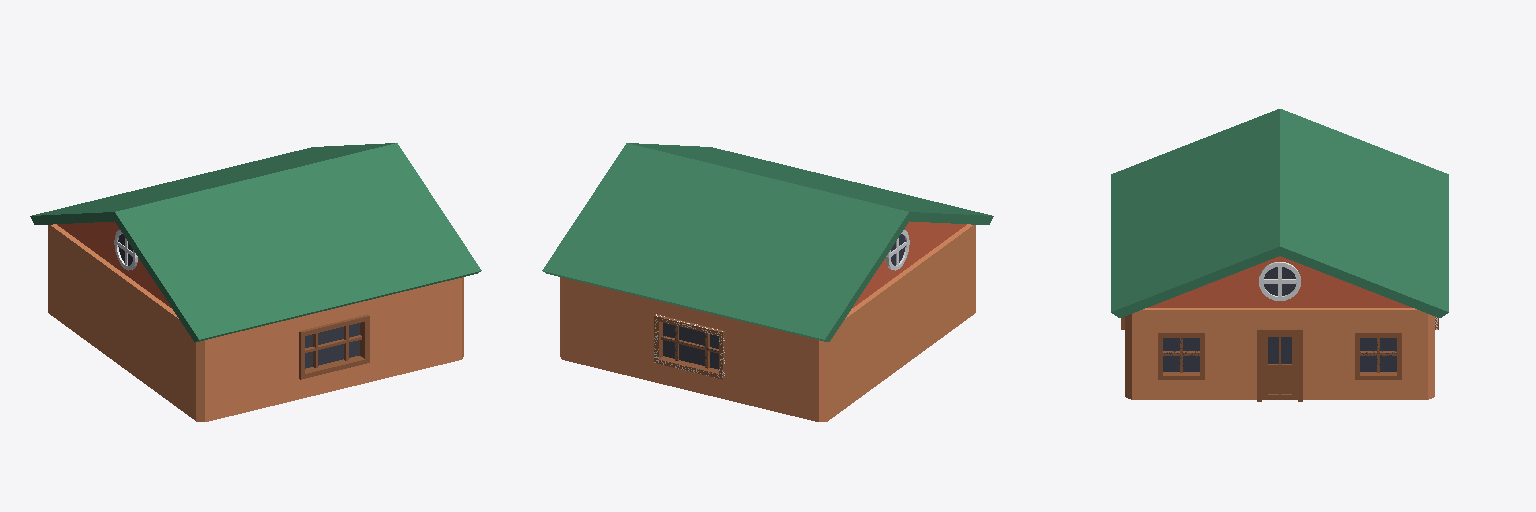
The picture shows the model from 3 angles: view 1: azimuth 30°, elevation 25°; view 2: azimuth 150°, elevation 25°; view 3: azimuth 270°, elevation 25°; orthographic projection.
Parts seen in each view (by area): view 1: roof_18, wall_straight_9, wall_windowLarge_10, wall_straight_8, wall_straight_15, wall_straight_14, wall_straight_16, window_round_detail_20; view 2: roof_18, wall_straight_13, wall_windowLarge_12, wall_straight_11, wall_straight_15, wall_straight_16, wall_straight_14, window_round_detail_20; view 3: roof_18, wall_window_4, wall_window_5, wall_door_closed_0, window_round_detail_19.
Part boxes in pixels (x1,y1,x2,y2): roof_18: (30, 143, 481, 341); wall_straight_9: (196, 320, 289, 421); wall_windowLarge_10: (290, 299, 375, 401); wall_straight_8: (376, 278, 461, 380); wall_straight_15: (97, 256, 154, 384); wall_straight_14: (48, 224, 98, 347); wall_straight_16: (147, 296, 195, 420); window_round_detail_20: (114, 230, 137, 270); roof_18: (542, 143, 993, 341); wall_straight_13: (734, 320, 827, 421); wall_windowLarge_12: (648, 299, 733, 401); wall_straight_11: (562, 278, 647, 380); wall_straight_15: (869, 256, 926, 384); wall_straight_16: (925, 224, 975, 347); wall_straight_14: (828, 294, 876, 420); window_round_detail_20: (886, 230, 909, 270); roof_18: (1111, 109, 1448, 317); wall_window_4: (1125, 308, 1230, 399); wall_window_5: (1329, 308, 1434, 399); wall_door_closed_0: (1226, 308, 1333, 401); window_round_detail_19: (1259, 262, 1300, 300).
Bounding box in the file's own units: 3.3 × 1.75 × 3.42.